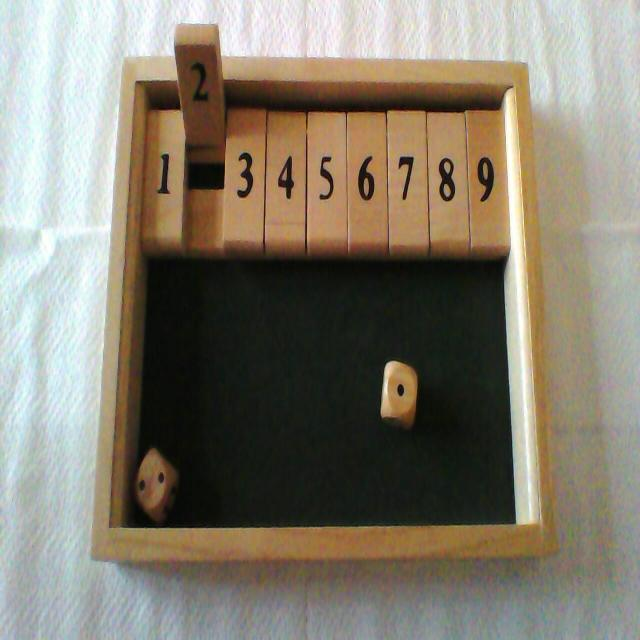1: (376, 355, 421, 432)
2: (131, 439, 183, 520)
C1: (141, 55, 178, 255)
C3: (225, 58, 264, 257)
C4: (267, 58, 305, 258)
C5: (309, 58, 346, 259)
C6: (349, 59, 386, 257)
C7: (389, 58, 427, 256)
C8: (428, 58, 468, 260), (429, 58, 469, 259)
C9: (466, 61, 509, 258)
O2: (174, 25, 223, 258)
